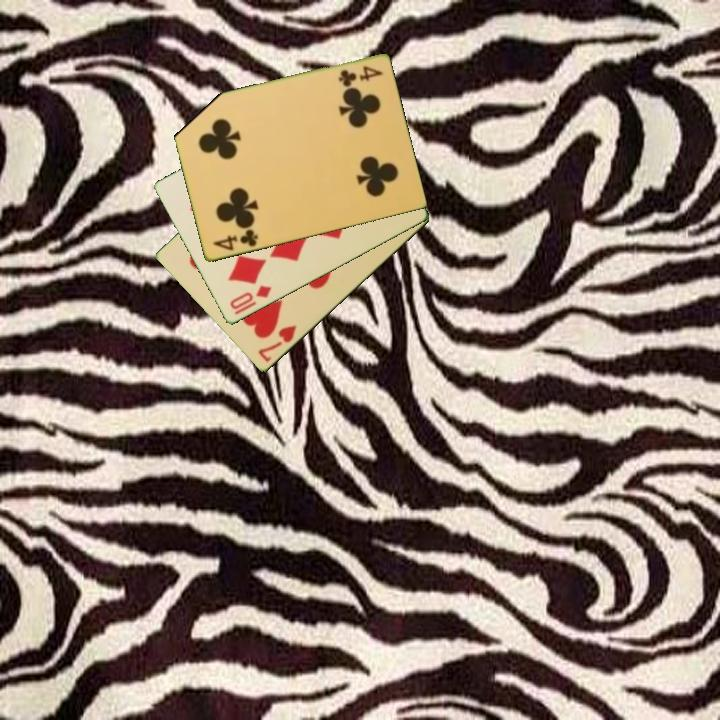10d: (226, 282, 275, 313)
4c: (209, 226, 261, 254), (335, 62, 385, 89)
7h: (254, 321, 299, 366)
